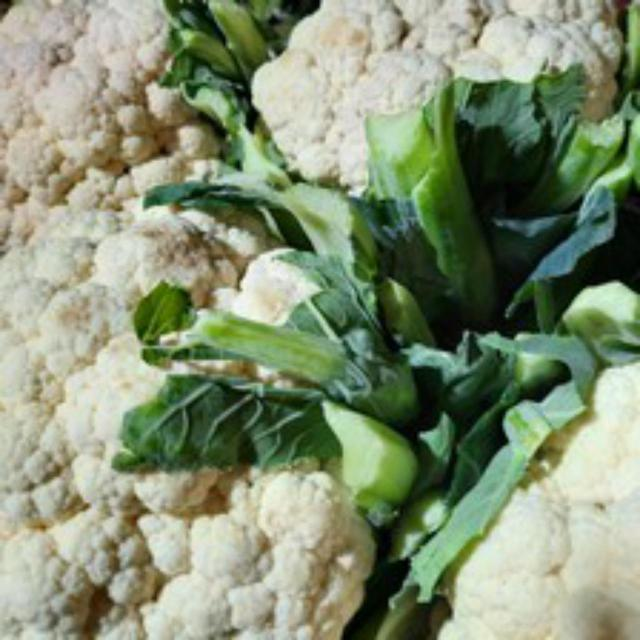cauliflower: (0, 157, 426, 637)
